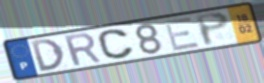8: (132, 22, 165, 56)
C: (96, 28, 136, 61)
D: (29, 37, 67, 73)
E: (162, 15, 203, 53)
P: (193, 10, 232, 47)
R: (62, 31, 105, 68)
